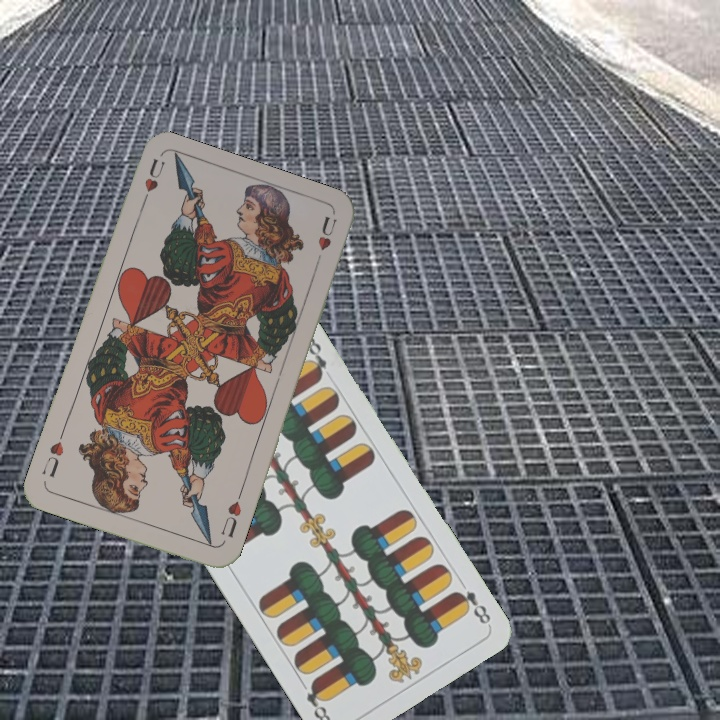E8: (449, 586, 493, 627)
HU: (136, 155, 168, 211), (216, 488, 245, 540)
